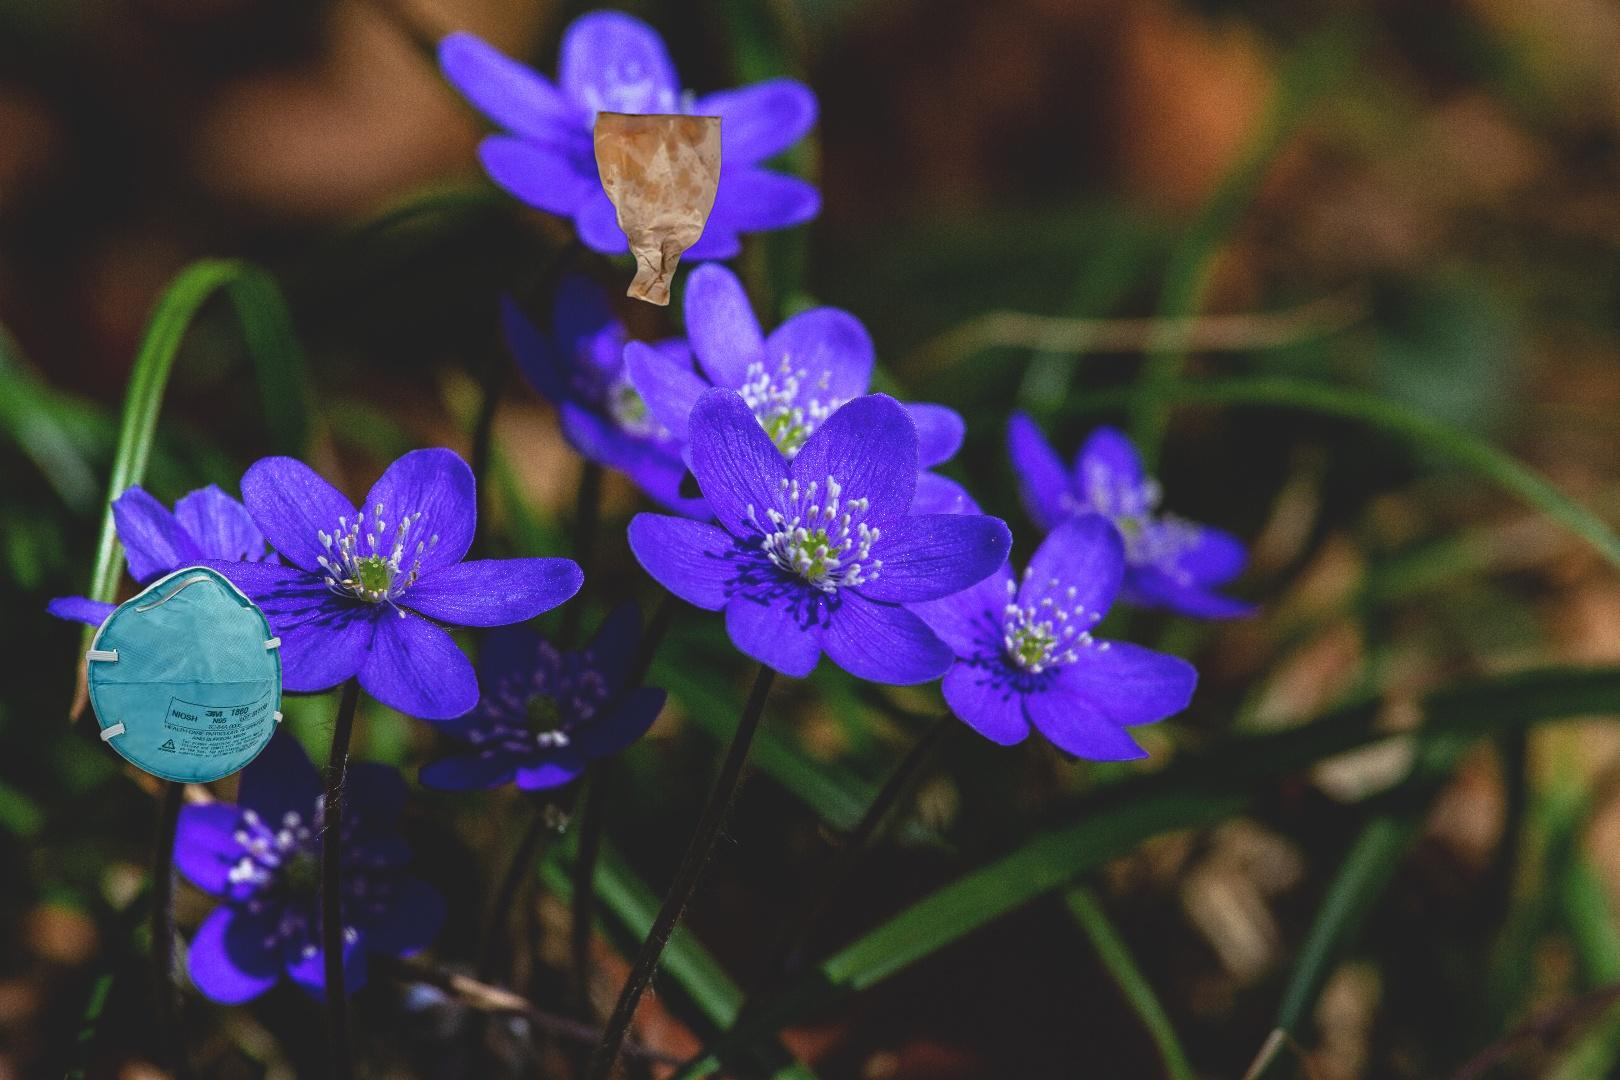paper-bag: (592, 108, 724, 309)
trash: (82, 563, 286, 787)
